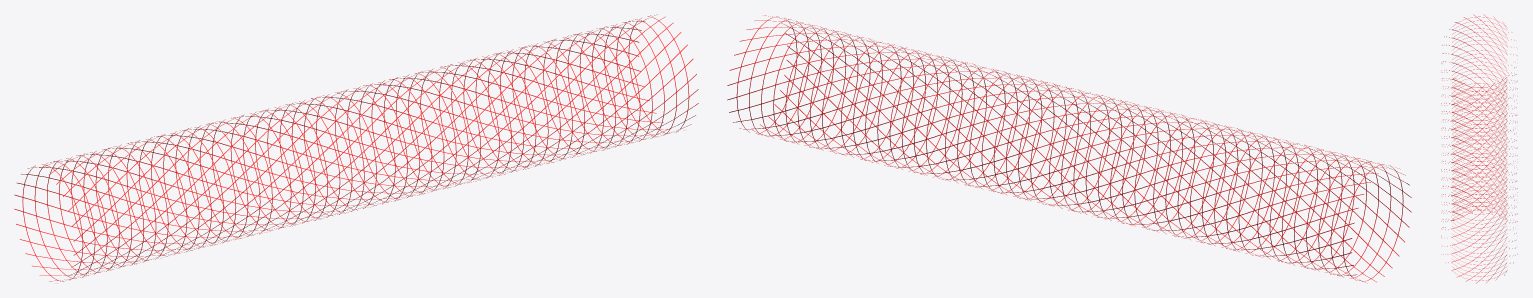
Rendered from Tunnel.fbx.
3 renders of one model, left to right at view 1: azimuth 30°, elevation 25°; view 2: azimuth 150°, elevation 25°; view 3: azimuth 270°, elevation 25°, orthographic. The views are drawn at different scales.
Visible parts, largest first — view 1: Cylinder; view 2: Cylinder; view 3: Cylinder.
Part boxes in pixels (<box>): Cylinder: <box>14,14,698,283</box>; Cylinder: <box>727,15,1411,283</box>; Cylinder: <box>1441,14,1517,283</box>.
Bounding box in the file's own units: 12000 × 2000 × 2000.
